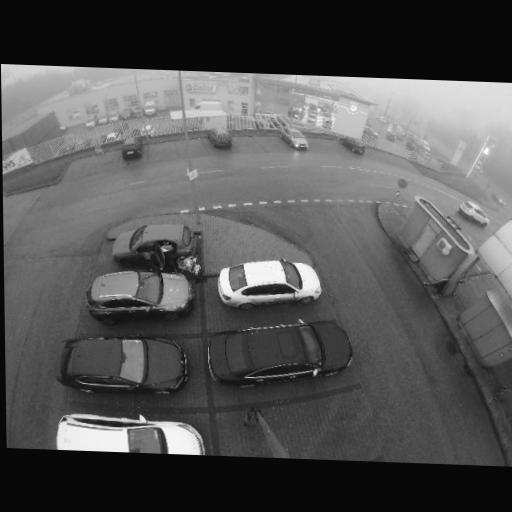busy: (203, 316, 363, 391), (56, 332, 195, 399), (83, 265, 198, 326), (54, 410, 204, 455), (211, 254, 323, 311), (108, 219, 200, 272), (454, 199, 494, 230), (275, 122, 315, 153), (118, 132, 147, 162), (335, 132, 370, 156), (206, 127, 235, 151)
free: (290, 415, 363, 459), (381, 150, 408, 170), (153, 139, 179, 158), (311, 137, 336, 155), (237, 136, 263, 152), (97, 154, 118, 171), (72, 160, 93, 177), (188, 139, 205, 154)
